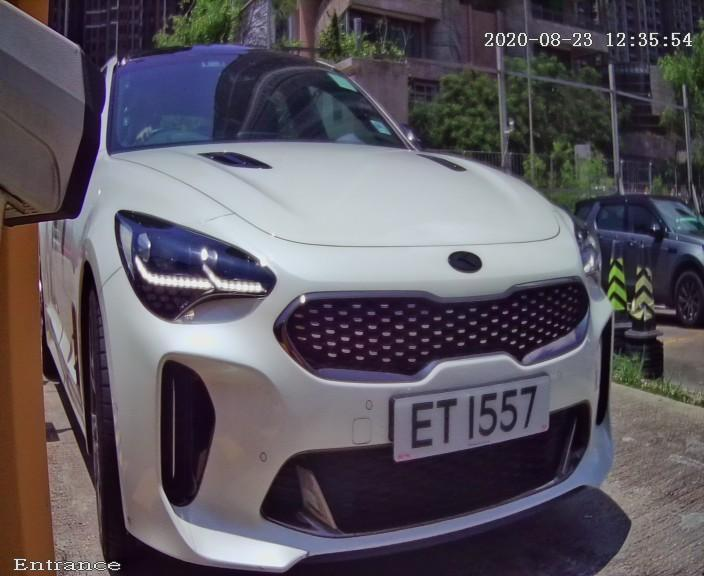License Plate: (364, 343, 572, 493)
